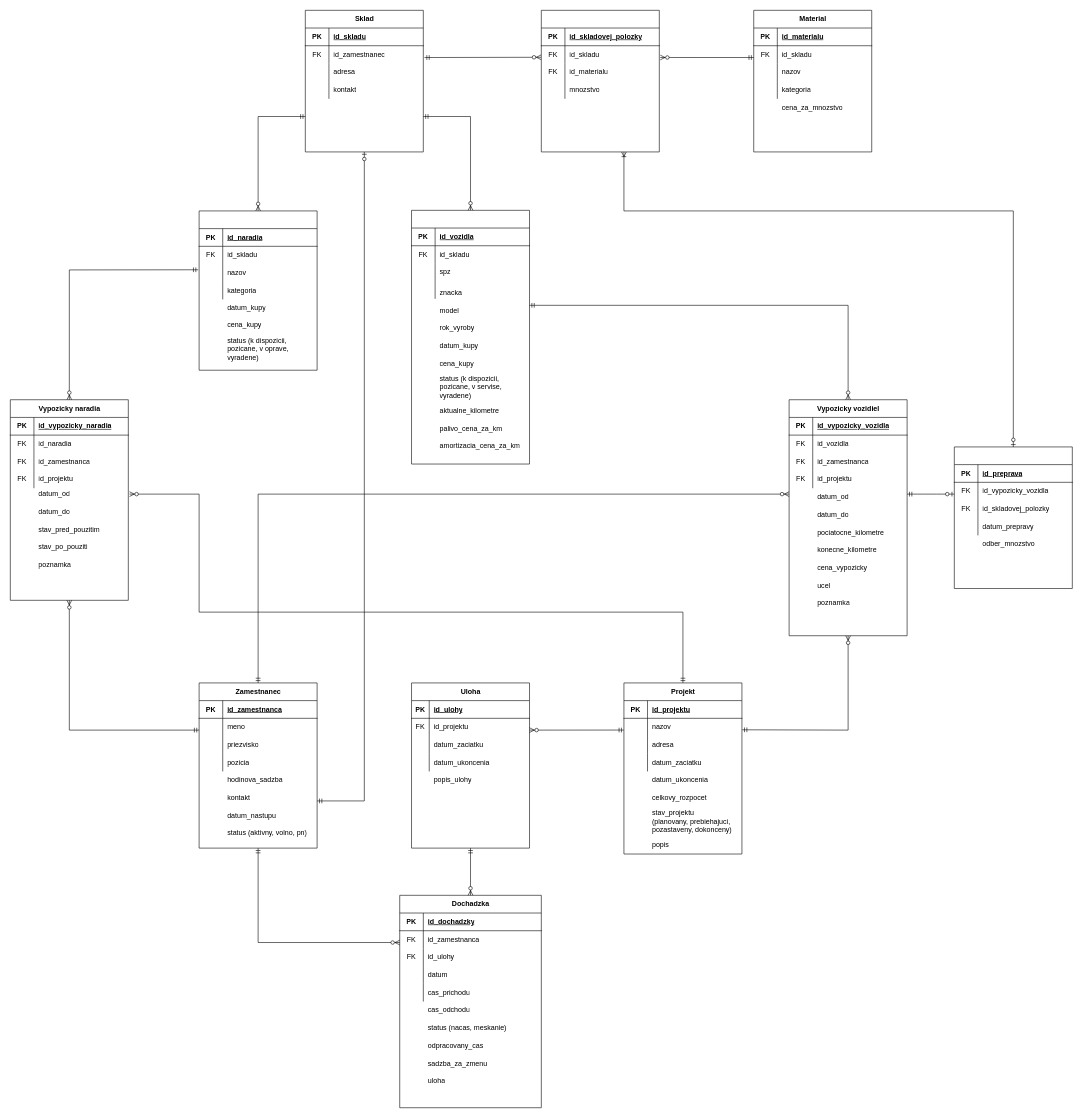
Some shapes in this 1083 by 1118 pixel diagram are drawn without their labels. The shapes that lost their labels are listed below. From the top down, each one's box as (x1, y1, x2, y2) in pixels, then its label:
(541, 10, 659, 152): Skladova polozka
(199, 210, 317, 370): Naradie
(411, 210, 530, 464): Vozidlo
(954, 446, 1072, 589): Preprava materialu
